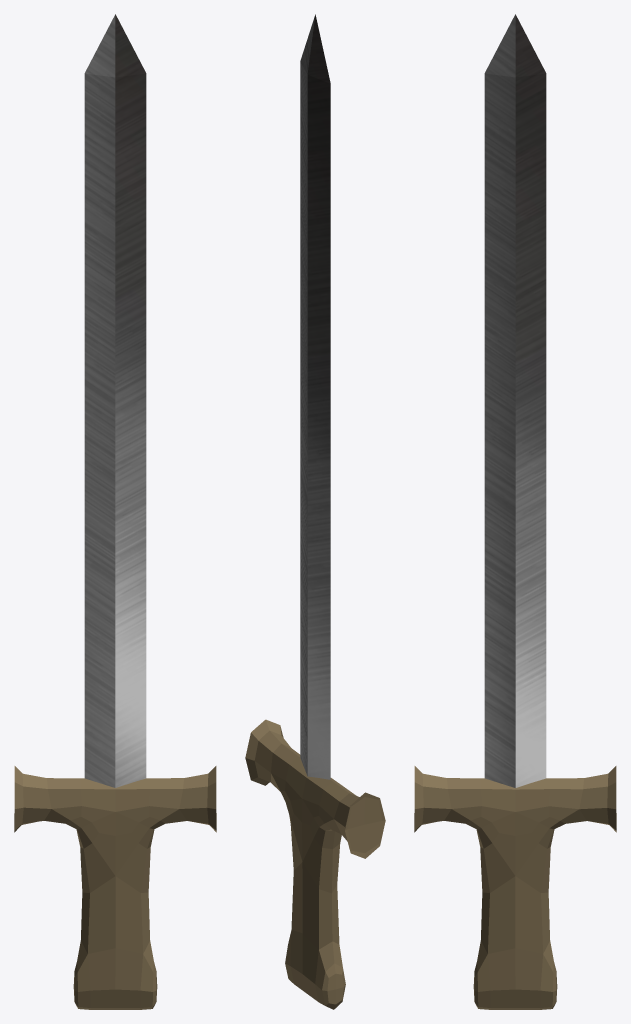
Rendered from sword.fbx.
The picture shows the model from 3 angles, left to right: view 1: azimuth 90°, elevation 25°; view 2: azimuth 210°, elevation 25°; view 3: azimuth 270°, elevation 25°; orthographic projection.
Visible parts, largest first — view 1: Blade, Sword; view 2: Blade, Sword; view 3: Blade, Sword.
Boxes of the visible parts, x1,y1,x2,y2 form: Blade: (84,14,146,787); Sword: (14,766,216,1009); Blade: (300,14,330,779); Sword: (245,719,385,1009); Blade: (484,14,546,787); Sword: (414,766,616,1009).
Bounding box in the file's own units: 5.45 × 126 × 23.11.
